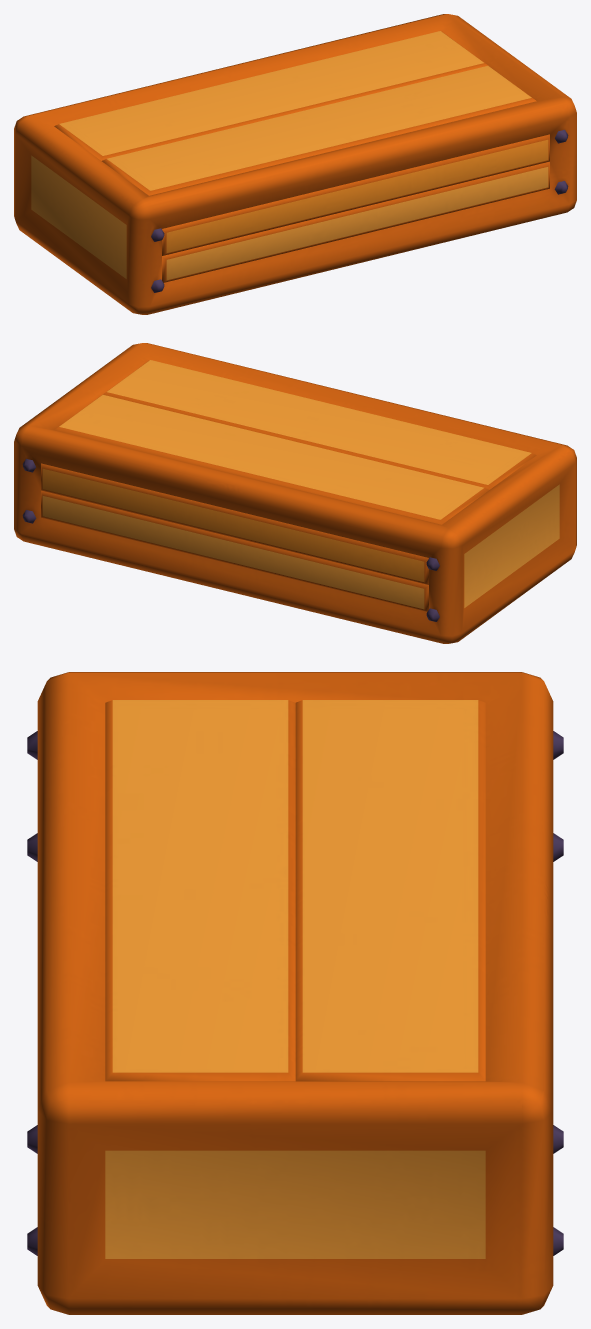
The model's file is kalas2.glb.
The picture shows the model from 3 angles, top to bottom: view 1: azimuth 30°, elevation 25°; view 2: azimuth 150°, elevation 25°; view 3: azimuth 270°, elevation 25°; orthographic projection. The views are drawn at different scales.
Visible parts, largest first — view 1: kalas2; view 2: kalas2; view 3: kalas2.
Part boxes in pixels (x1,y1,x2,y2): kalas2: [14, 14, 576, 314]; kalas2: [14, 343, 576, 643]; kalas2: [27, 672, 563, 1314].
Bounding box in the file's own units: 3.07 × 0.7595 × 1.6.
Materials: 1 (1 with a texture image).
